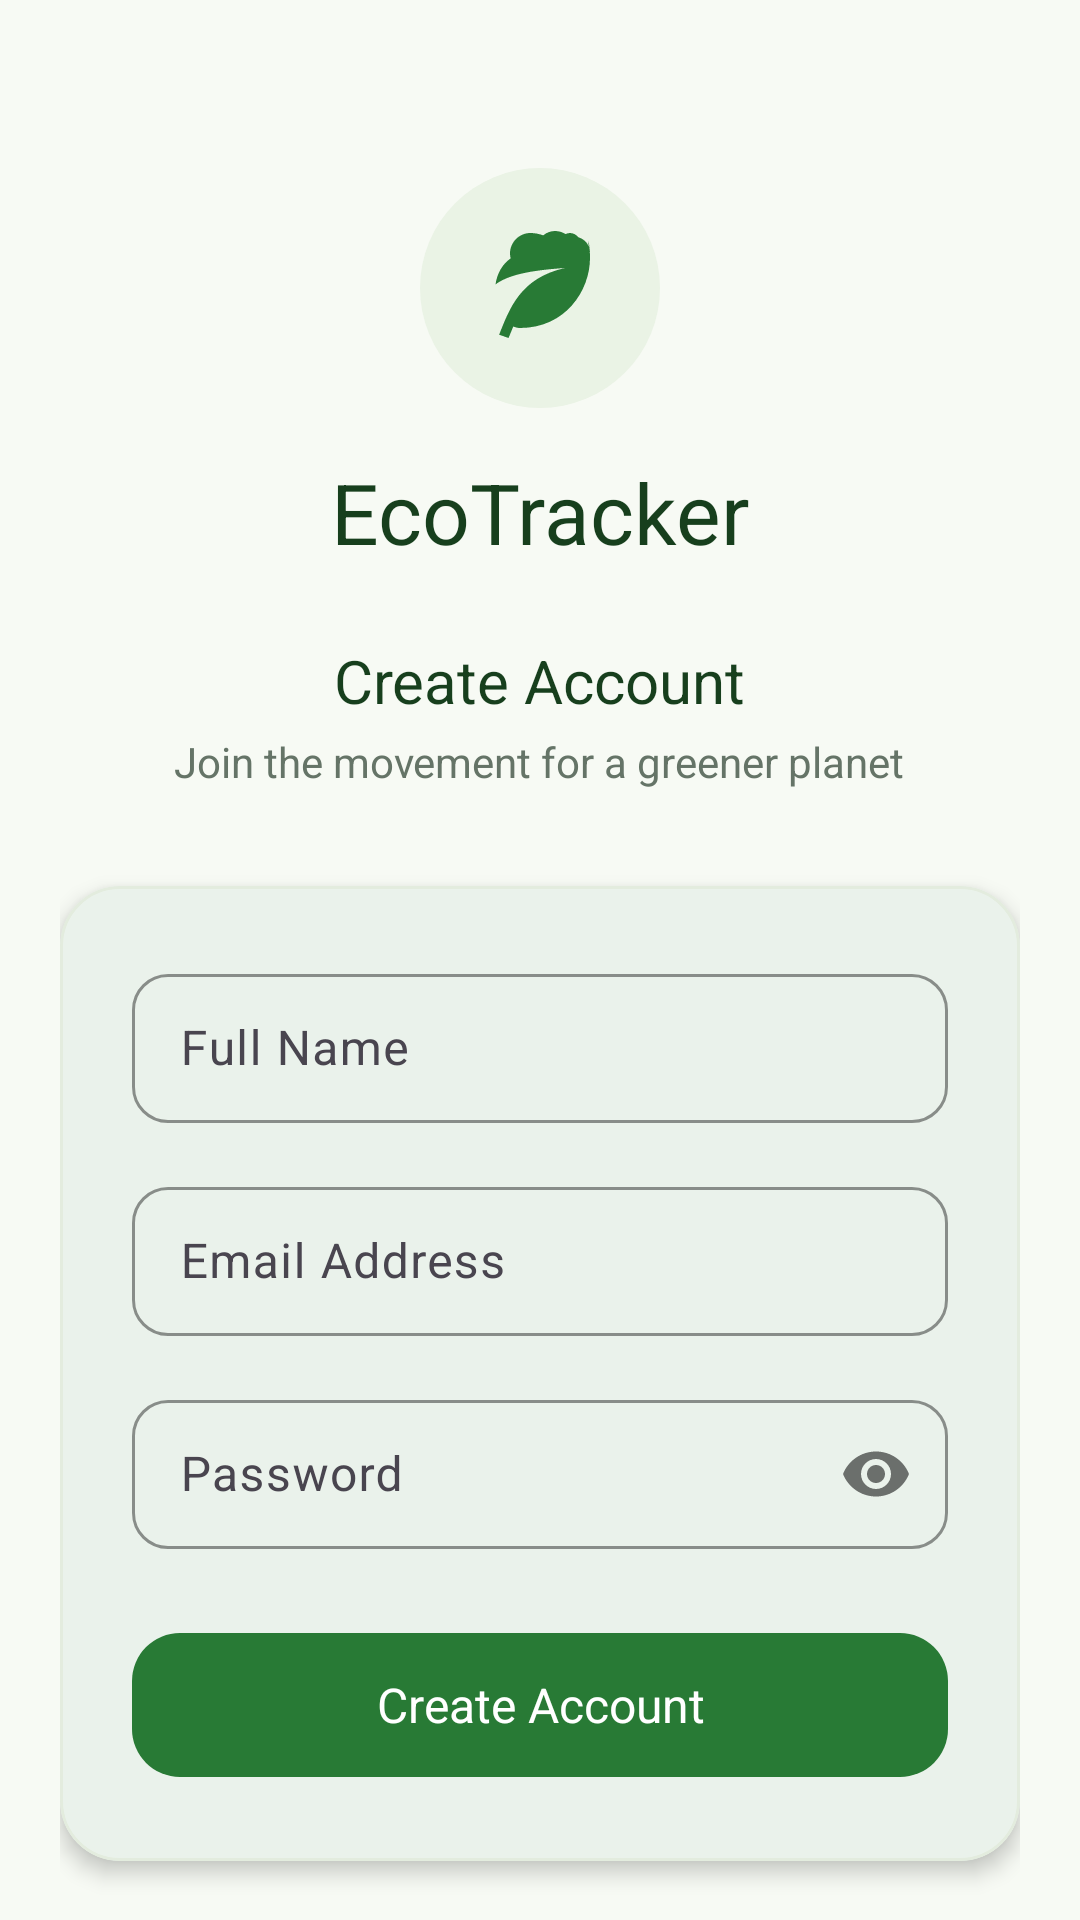

Where icons sit on this 1080 x 1920 app screen, as {"left": x1, "top": y1, "right": x2, "bottom": y2}:
leaf: {"left": 495, "top": 231, "right": 590, "bottom": 338}
